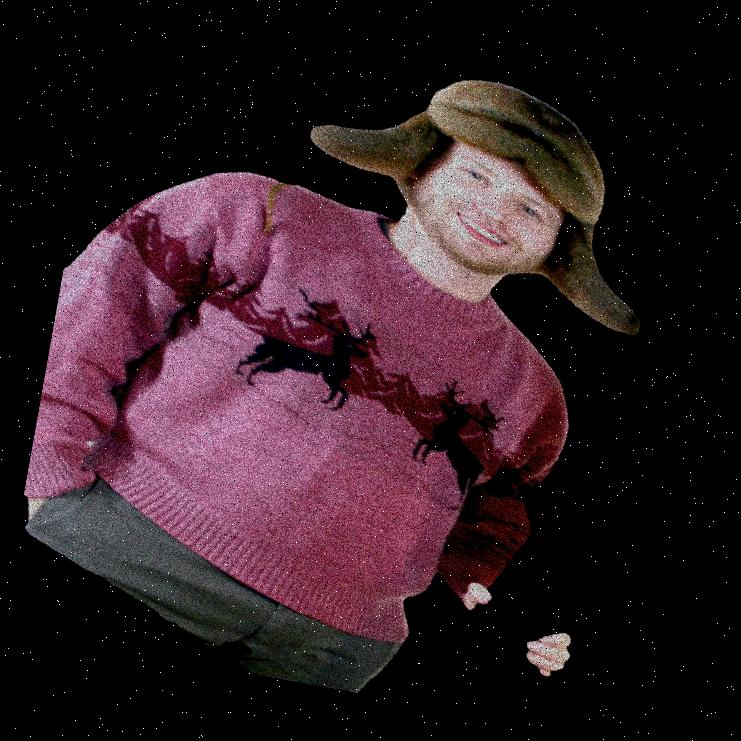Pessoa: (174, 0, 533, 740)
